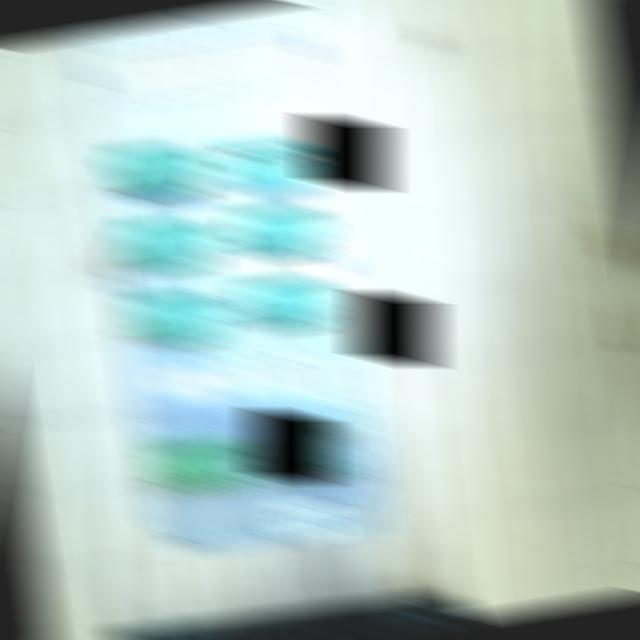Terminal_1: (250, 420, 348, 488), (147, 434, 245, 495)
Terminal_2: (104, 138, 200, 199), (116, 213, 211, 273), (243, 270, 336, 331), (233, 199, 326, 260), (127, 287, 221, 346)
